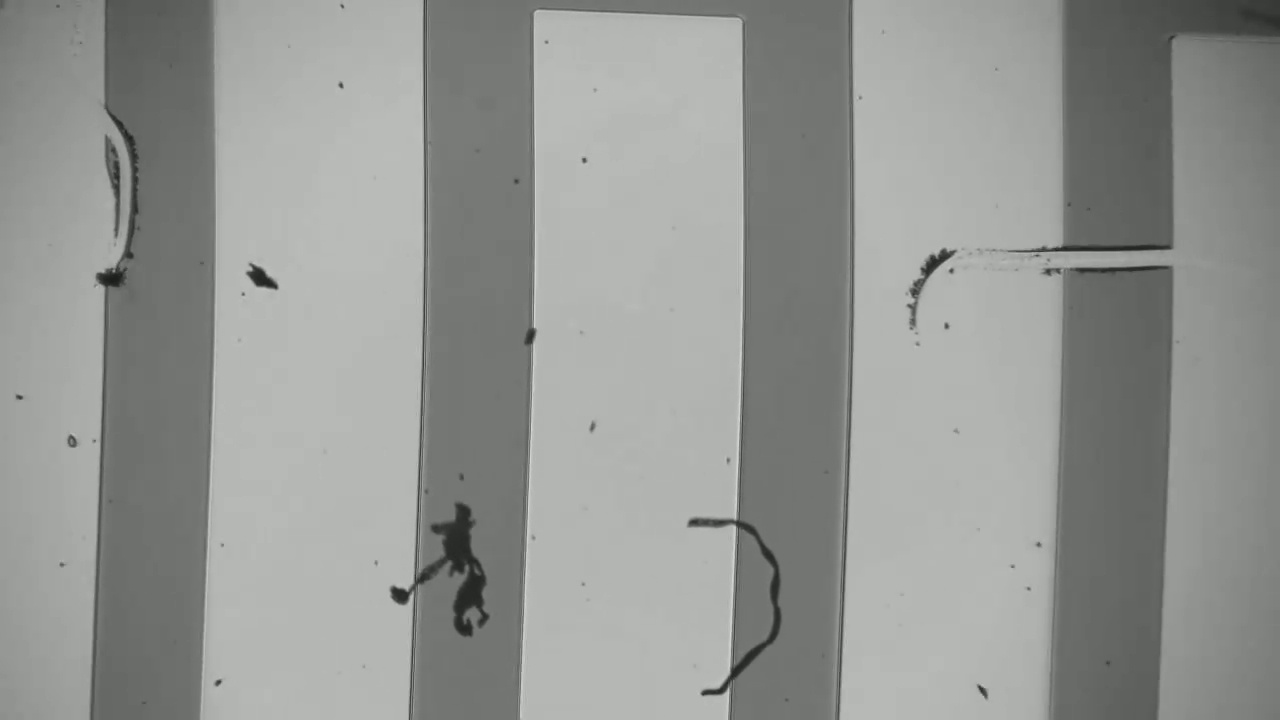Short_circuit: (1032, 217, 1198, 289)
